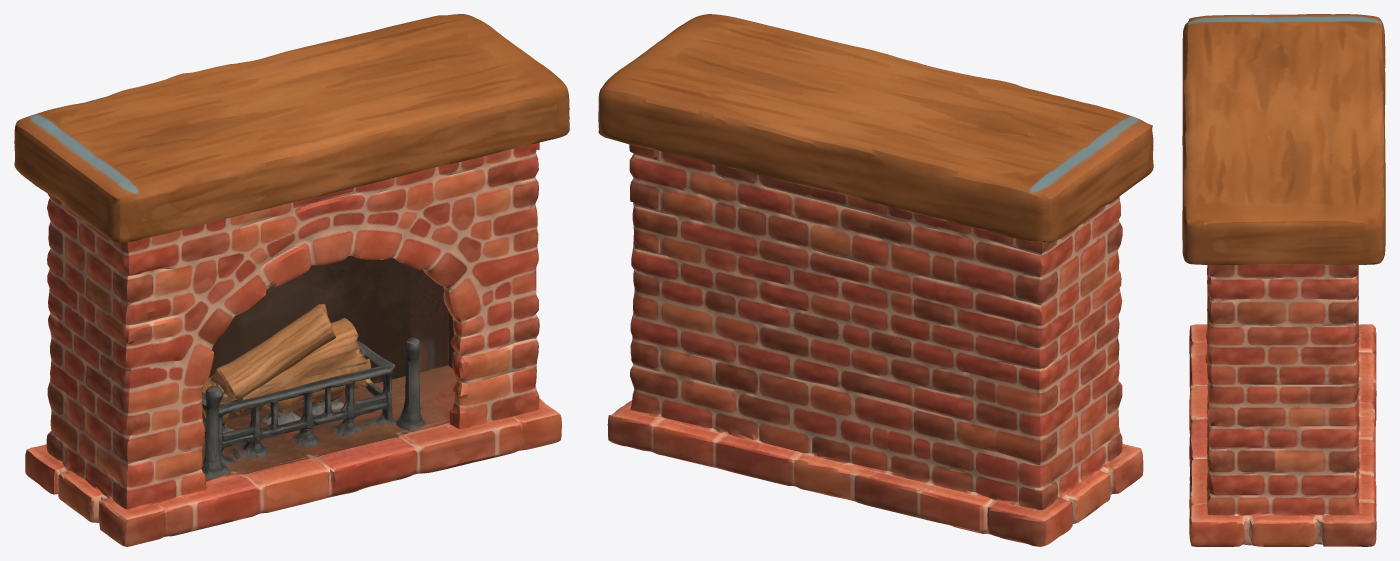
File: fireplace.glb
3 views of the same model, side by side, from view 1: azimuth 30°, elevation 25°; view 2: azimuth 150°, elevation 25°; view 3: azimuth 270°, elevation 25° (orthographic). The views are drawn at different scales.
Visible parts, largest first — view 1: Mesh0; view 2: Mesh0; view 3: Mesh0.
Part boxes in pixels (box(x1,y1,x2,y2)): Mesh0: box(14, 14, 569, 546); Mesh0: box(598, 14, 1153, 546); Mesh0: box(1182, 14, 1385, 546).
Size of the model in its own units: 1.89 by 1.43 by 0.7775.
Materials: 1 (1 with a texture image).
